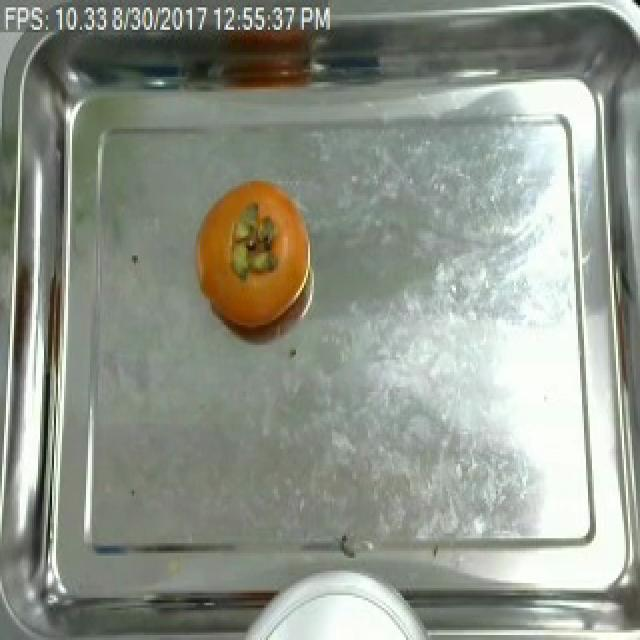Fruit: (190, 174, 316, 330)
